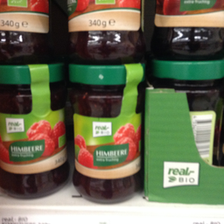jam: (69, 63, 146, 204), (1, 64, 67, 199), (67, 1, 146, 61), (151, 1, 224, 55), (1, 1, 56, 59)
